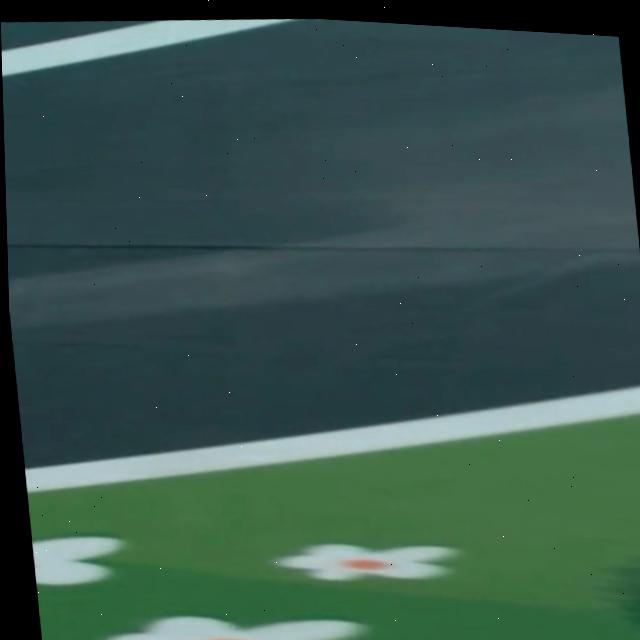center: (1, 19, 296, 75)
right: (26, 385, 640, 492)
